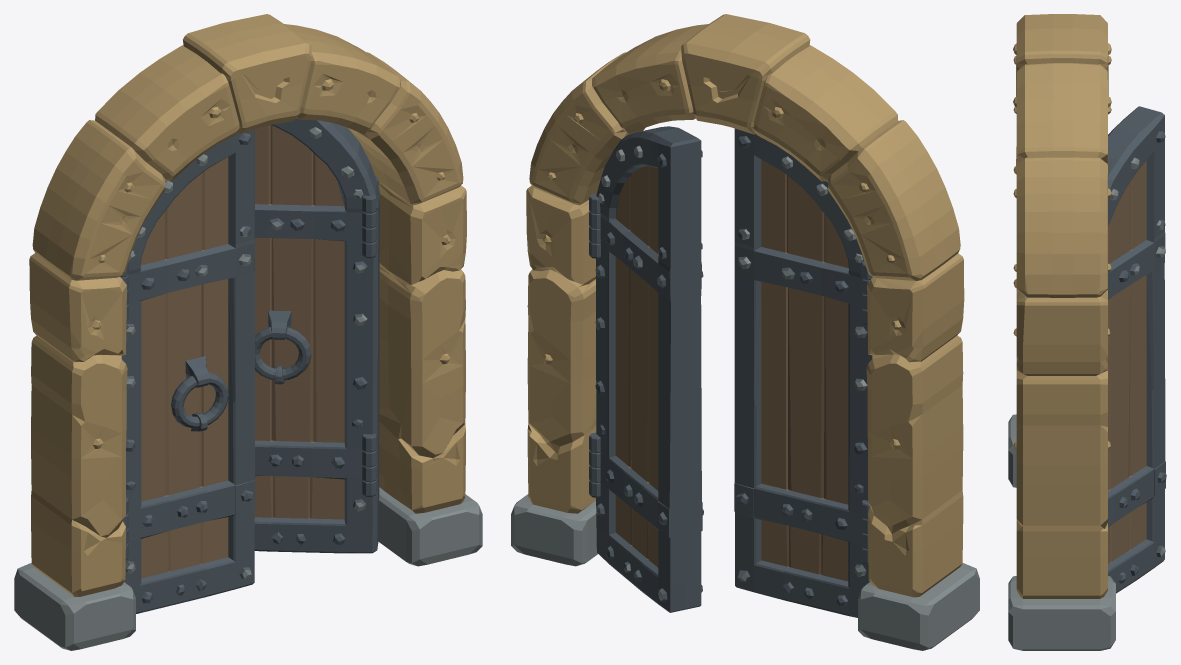
File: door_romcom.glb
3 views of the same model, side by side, from view 1: azimuth 30°, elevation 25°; view 2: azimuth 150°, elevation 25°; view 3: azimuth 270°, elevation 25° (orthographic). The views are drawn at different scales.
Parts seen in each view (by area): view 1: goldstone-material, metal-material, wood-material, stone-material; view 2: goldstone-material, metal-material, wood-material, stone-material; view 3: goldstone-material, metal-material, wood-material, stone-material.
Boxes of the visible parts, x1,y1,x2,y2 form: goldstone-material: [29, 14, 466, 596]; metal-material: [120, 118, 380, 613]; wood-material: [141, 125, 344, 578]; stone-material: [14, 127, 482, 650]; goldstone-material: [526, 14, 964, 597]; metal-material: [589, 126, 872, 617]; wood-material: [615, 159, 848, 581]; stone-material: [511, 145, 979, 650]; goldstone-material: [1013, 14, 1111, 598]; metal-material: [1107, 106, 1166, 593]; wood-material: [1108, 160, 1146, 563]; stone-material: [1008, 157, 1165, 650].
Size of the model in its own units: 1.99 by 2.5 by 0.6864.
